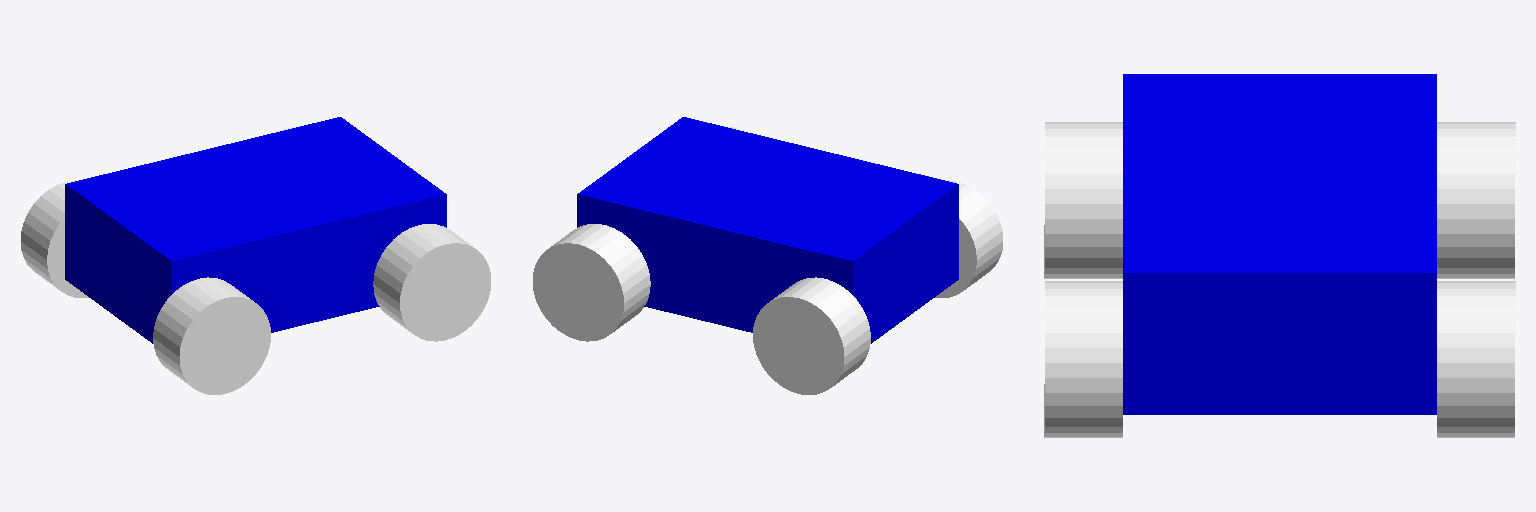
The robot description file, URDF, robot "little_car":
<?xml version="1.0" ?>

<robot name = "little_car">
	<link name = "base_link">
		<visual>
			<geometry>
				<box size="0.3 0.2 0.1"/>
			</geometry>
			<material name="blue">
				<color rgba="0 0 1 1"/>
			</material>
			<origin xyz="0 0 0" rpy="0 0 0">
			</origin>
		</visual>

		<collision>
			<geometry>
				<box size="0.21 0.3 0.11"/>
			</geometry>
		</collision>

		<inertial>
			<mass value="10"/>
			<inertia ixx="100"  ixy="0"  ixz="0" iyy="100" iyz="0" izz="100"/>
		</inertial>


	</link>


	<link name="wheel_1" > 
		<visual>
			<geometry>
				<cylinder radius="0.05" length="0.05" />
			</geometry>
		
			<material name="blue">
				<color rgba="1 1 1 1"/>
			</material>
		</visual>
		<collision>
			<geometry>
				<cylinder radius="0.05" length="0.05" />
			</geometry>
		</collision>
		<inertial>
			<mass value="10"/>
			<inertia ixx="100"  ixy="0"  ixz="0" iyy="100" iyz="0" izz="100"/>
		</inertial>
		
	</link>

	<link name="wheel_2" >
	
		<visual>
			<geometry>
				<cylinder radius="0.05" length="0.05" />
			</geometry>
		
			<material name="blue">
				<color rgba="1 1 1 1"/>
			</material>
		</visual>
		<collision>
			<geometry>
				<cylinder radius="0.05" length="0.05" />
			</geometry>
		</collision>
		<inertial>
			<mass value="10"/>
			<inertia ixx="100"  ixy="0"  ixz="0" iyy="100" iyz="0" izz="100"/>
		</inertial>
	</link>


	<link name="wheel_3" >
	
		<visual>
			<geometry>
				<cylinder radius="0.05" length="0.05" />
			</geometry>
		
			<material name="blue">
				<color rgba="1 1 1 1"/>
			</material>
		</visual>
		<collision>
			<geometry>
				<cylinder radius="0.05" length="0.05" />
			</geometry>
		</collision>
		<inertial>
			<mass value="10"/>
			<inertia ixx="100"  ixy="0"  ixz="0" iyy="100" iyz="0" izz="100"/>
		</inertial>
	</link>


	<link name="wheel_4" >
		<visual>
			<geometry>
				<cylinder radius="0.05" length="0.05" />
			</geometry>
		
			<material name="blue">
				<color rgba="1 1 1 1"/>
			</material>
		</visual>
		<collision>
			<geometry>
				<cylinder radius="0.05" length="0.05" />
			</geometry>
		</collision>
		<inertial>
			<mass value="10"/>
			<inertia ixx="100"  ixy="0"  ixz="0" iyy="100" iyz="0" izz="100"/>
		</inertial>
	</link>


	<joint name="base_to_wheel_1" type="continuous">	
		<parent link="base_link"/>
		<child link="wheel_1"/>
		<origin xyz="0.12 0.125 -0.025" rpy="1.57 0 0"/>
		<joint_properties damping="20.0" friction="20.0"/>
	</joint>

	<joint name="base_to_wheel_2" type="continuous">		
        <parent link="base_link"/>
		<child link="wheel_2"/>
		<origin xyz="0.12 -0.125 -0.025" rpy="1.57 0 0"/>
		<joint_properties damping="20.0" friction="20.0"/>
	</joint>


	<joint name="base_to_wheel_3" type="continuous">	
        <parent link="base_link"/>
		<child link="wheel_3"/>
		<origin xyz="-0.12 -0.125 -0.025" rpy="1.57 0 0"/>
		<joint_properties damping="20.0" friction="20.0"/>
	</joint>


	<joint name="base_to_wheel_4" type="continuous">
		<parent link="base_link"/>
		<child link="wheel_4"/>
		<origin xyz="-0.12 0.125 -0.025" rpy="1.57 0 0"/>
		<joint_properties damping="20.0" friction="20.0"/>
	</joint>

</robot>

--- Render facts (derived) ---
The picture shows the robot from 3 angles, left to right: view 1: azimuth 30°, elevation 25°; view 2: azimuth 150°, elevation 25°; view 3: azimuth 270°, elevation 25°; orthographic projection.
Robot: little_car — 5 links, 4 joints (4 continuous); root link base_link; default pose: every joint at zero.
Visible links, largest first — view 1: base_link, wheel_3, wheel_2, wheel_4; view 2: base_link, wheel_4, wheel_1, wheel_3; view 3: base_link, wheel_1, wheel_2, wheel_3, wheel_4.
Boxes of the visible links, left/top/right/bottom form: base_link: left=65, top=117, right=446, bottom=343; wheel_3: left=153, top=277, right=270, bottom=394; wheel_2: left=373, top=224, right=490, bottom=341; wheel_4: left=21, top=180, right=88, bottom=297; base_link: left=577, top=117, right=958, bottom=343; wheel_4: left=753, top=277, right=870, bottom=394; wheel_1: left=533, top=224, right=650, bottom=341; wheel_3: left=935, top=180, right=1002, bottom=297; base_link: left=1123, top=74, right=1436, bottom=414; wheel_1: left=1437, top=281, right=1515, bottom=437; wheel_2: left=1044, top=281, right=1122, bottom=437; wheel_3: left=1044, top=122, right=1122, bottom=278; wheel_4: left=1437, top=122, right=1515, bottom=278.
Size in the robot's own frame: 0.34 by 0.3001 by 0.125 metres.
Geometry: primitives only (box / cylinder / sphere), no mesh files.